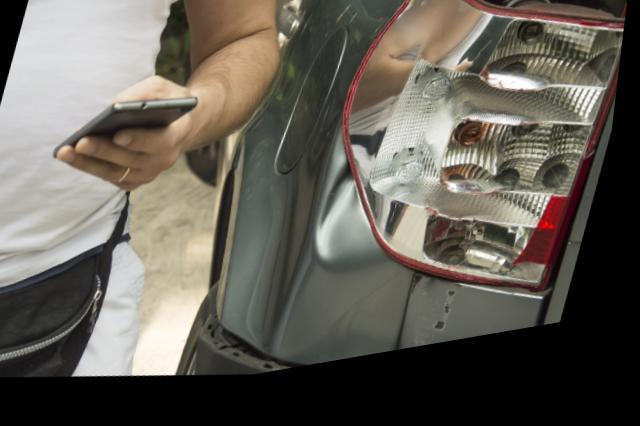dent: (323, 144, 387, 271), (481, 0, 615, 25)
lamp broken: (349, 0, 628, 311)
scratch: (418, 289, 471, 364)
